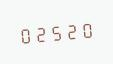five: (48, 20, 62, 43)
two: (63, 19, 77, 42), (33, 22, 47, 44)
zero: (18, 23, 32, 46), (78, 18, 92, 40)
